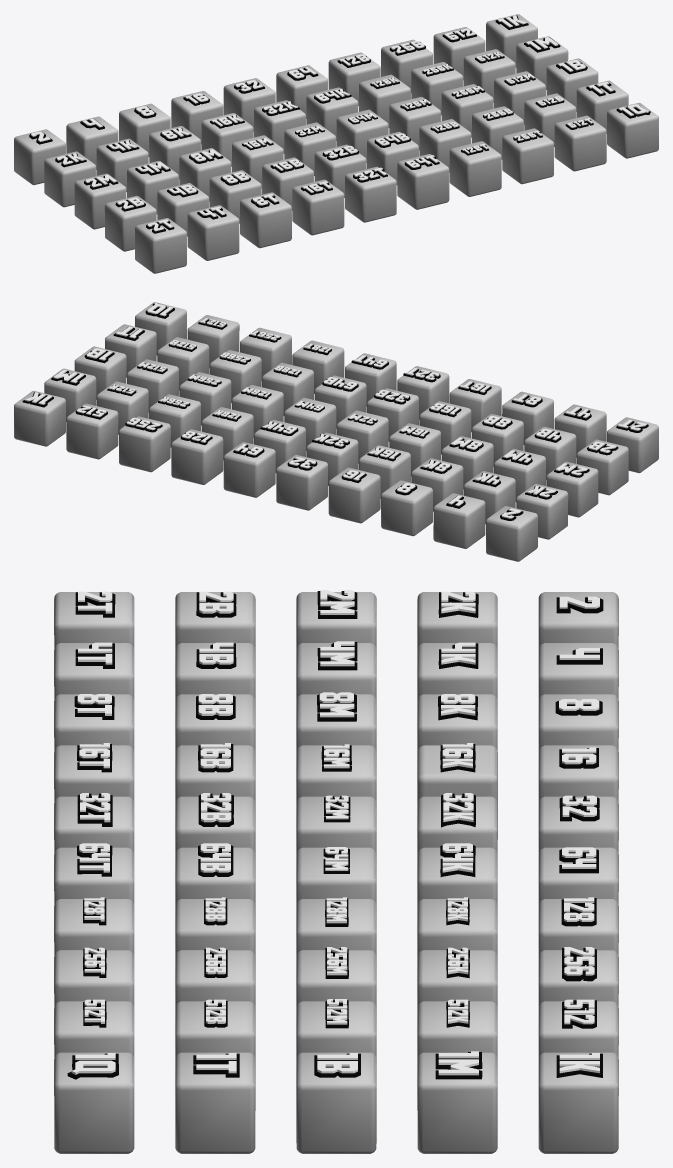
File: improved_size_test.glb
The picture shows the model from 3 angles, top to bottom: view 1: azimuth 30°, elevation 25°; view 2: azimuth 150°, elevation 25°; view 3: azimuth 270°, elevation 25°; orthographic projection. The views are drawn at different scales.
Visible parts, largest first — view 1: SIZE_512T, SIZE_64T, SIZE_16T, SIZE_4T, SIZE_128T, SIZE_32T, SIZE_1Q, SIZE_8T, SIZE_2T, SIZE_256T, SIZE_2K, SIZE_2M (+38 smaller); view 2: SIZE_4, SIZE_512, SIZE_64, SIZE_16, SIZE_128, SIZE_256, SIZE_1K, SIZE_8, SIZE_32, SIZE_2, SIZE_2B, SIZE_2M (+38 smaller); view 3: SIZE_1M, SIZE_1B, SIZE_1T, SIZE_1K, SIZE_1Q, SIZE_64B, SIZE_64T, SIZE_64K, SIZE_512, SIZE_8M, SIZE_512M, SIZE_512B (+38 smaller).
Boxes of the visible parts, bbox=[...] form: SIZE_512T: bbox=[554, 115, 606, 171]; SIZE_64T: bbox=[397, 154, 449, 209]; SIZE_16T: bbox=[292, 179, 344, 235]; SIZE_4T: bbox=[187, 205, 239, 260]; SIZE_128T: bbox=[449, 141, 501, 196]; SIZE_32T: bbox=[345, 166, 396, 222]; SIZE_1Q: bbox=[607, 102, 658, 158]; SIZE_8T: bbox=[240, 192, 291, 248]; SIZE_2T: bbox=[135, 218, 186, 273]; SIZE_256T: bbox=[502, 128, 553, 184]; SIZE_2K: bbox=[44, 151, 96, 207]; SIZE_2M: bbox=[74, 173, 126, 229]; SIZE_4: bbox=[433, 493, 485, 548]; SIZE_512: bbox=[66, 403, 118, 459]; SIZE_64: bbox=[223, 442, 275, 497]; SIZE_16: bbox=[328, 467, 380, 523]; SIZE_128: bbox=[171, 429, 223, 484]; SIZE_256: bbox=[119, 416, 170, 472]; SIZE_1K: bbox=[14, 390, 65, 446]; SIZE_8: bbox=[381, 480, 432, 536]; SIZE_32: bbox=[276, 454, 327, 510]; SIZE_2: bbox=[486, 506, 537, 561]; SIZE_2B: bbox=[576, 439, 628, 495]; SIZE_2M: bbox=[546, 461, 598, 517]; SIZE_1M: bbox=[417, 1051, 497, 1153]; SIZE_1B: bbox=[296, 1052, 376, 1153]; SIZE_1T: bbox=[175, 1052, 255, 1153]; SIZE_1K: bbox=[538, 1052, 618, 1153]; SIZE_1Q: bbox=[54, 1052, 134, 1153]; SIZE_64B: bbox=[175, 843, 255, 905]; SIZE_64T: bbox=[54, 843, 134, 903]; SIZE_64K: bbox=[417, 843, 497, 905]; SIZE_512: bbox=[538, 999, 618, 1057]; SIZE_8M: bbox=[296, 692, 376, 751]; SIZE_512M: bbox=[296, 999, 376, 1058]; SIZE_512B: bbox=[175, 999, 255, 1058].
Bounding box in the file's own units: 28.99 × 2.13 × 13.99.
Materials: 1 (1 with a texture image).
